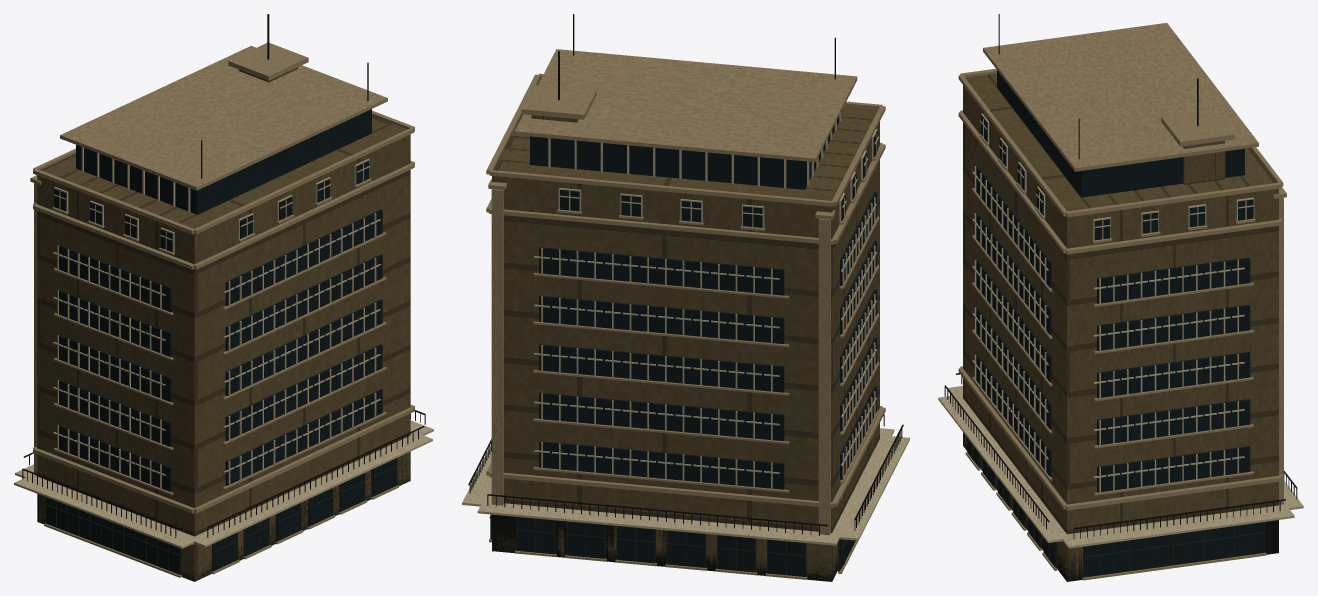
3 views of the same model, side by side, from view 1: azimuth 30°, elevation 25°; view 2: azimuth 150°, elevation 25°; view 3: azimuth 270°, elevation 25° (orthographic). The views are drawn at different scales.
Parts seen in each view (by area): view 1: hotel-atlanta-0, hotel-atlanta-4, hotel-atlanta-2, hotel-atlanta-5, hotel-atlanta-1, hotel-atlanta-3; view 2: hotel-atlanta-0, hotel-atlanta-2, hotel-atlanta-4, hotel-atlanta-5, hotel-atlanta-1, hotel-atlanta-3; view 3: hotel-atlanta-0, hotel-atlanta-2, hotel-atlanta-4, hotel-atlanta-5, hotel-atlanta-1, hotel-atlanta-3.
Boxes of the visible parts, box(x1,y1,x2,y2) form: hotel-atlanta-0: box(37, 67, 410, 581); hotel-atlanta-4: box(46, 109, 396, 574); hotel-atlanta-2: box(30, 43, 414, 577); hotel-atlanta-5: box(14, 147, 433, 548); hotel-atlanta-1: box(22, 14, 425, 581); hotel-atlanta-3: box(45, 458, 397, 574); hotel-atlanta-0: box(492, 78, 879, 581); hotel-atlanta-2: box(486, 49, 885, 579); hotel-atlanta-4: box(490, 111, 878, 576); hotel-atlanta-5: box(462, 111, 909, 545); hotel-atlanta-1: box(468, 14, 903, 581); hotel-atlanta-3: box(489, 514, 851, 576); hotel-atlanta-0: box(963, 73, 1278, 581); hotel-atlanta-2: box(958, 23, 1286, 580); hotel-atlanta-4: box(967, 70, 1264, 576); hotel-atlanta-5: box(938, 113, 1303, 548); hotel-atlanta-1: box(944, 14, 1297, 581); hotel-atlanta-3: box(972, 444, 1264, 577).
Bounding box in the file's own units: 34.44 × 39.2 × 28.07.
6 materials, 6 textured.
